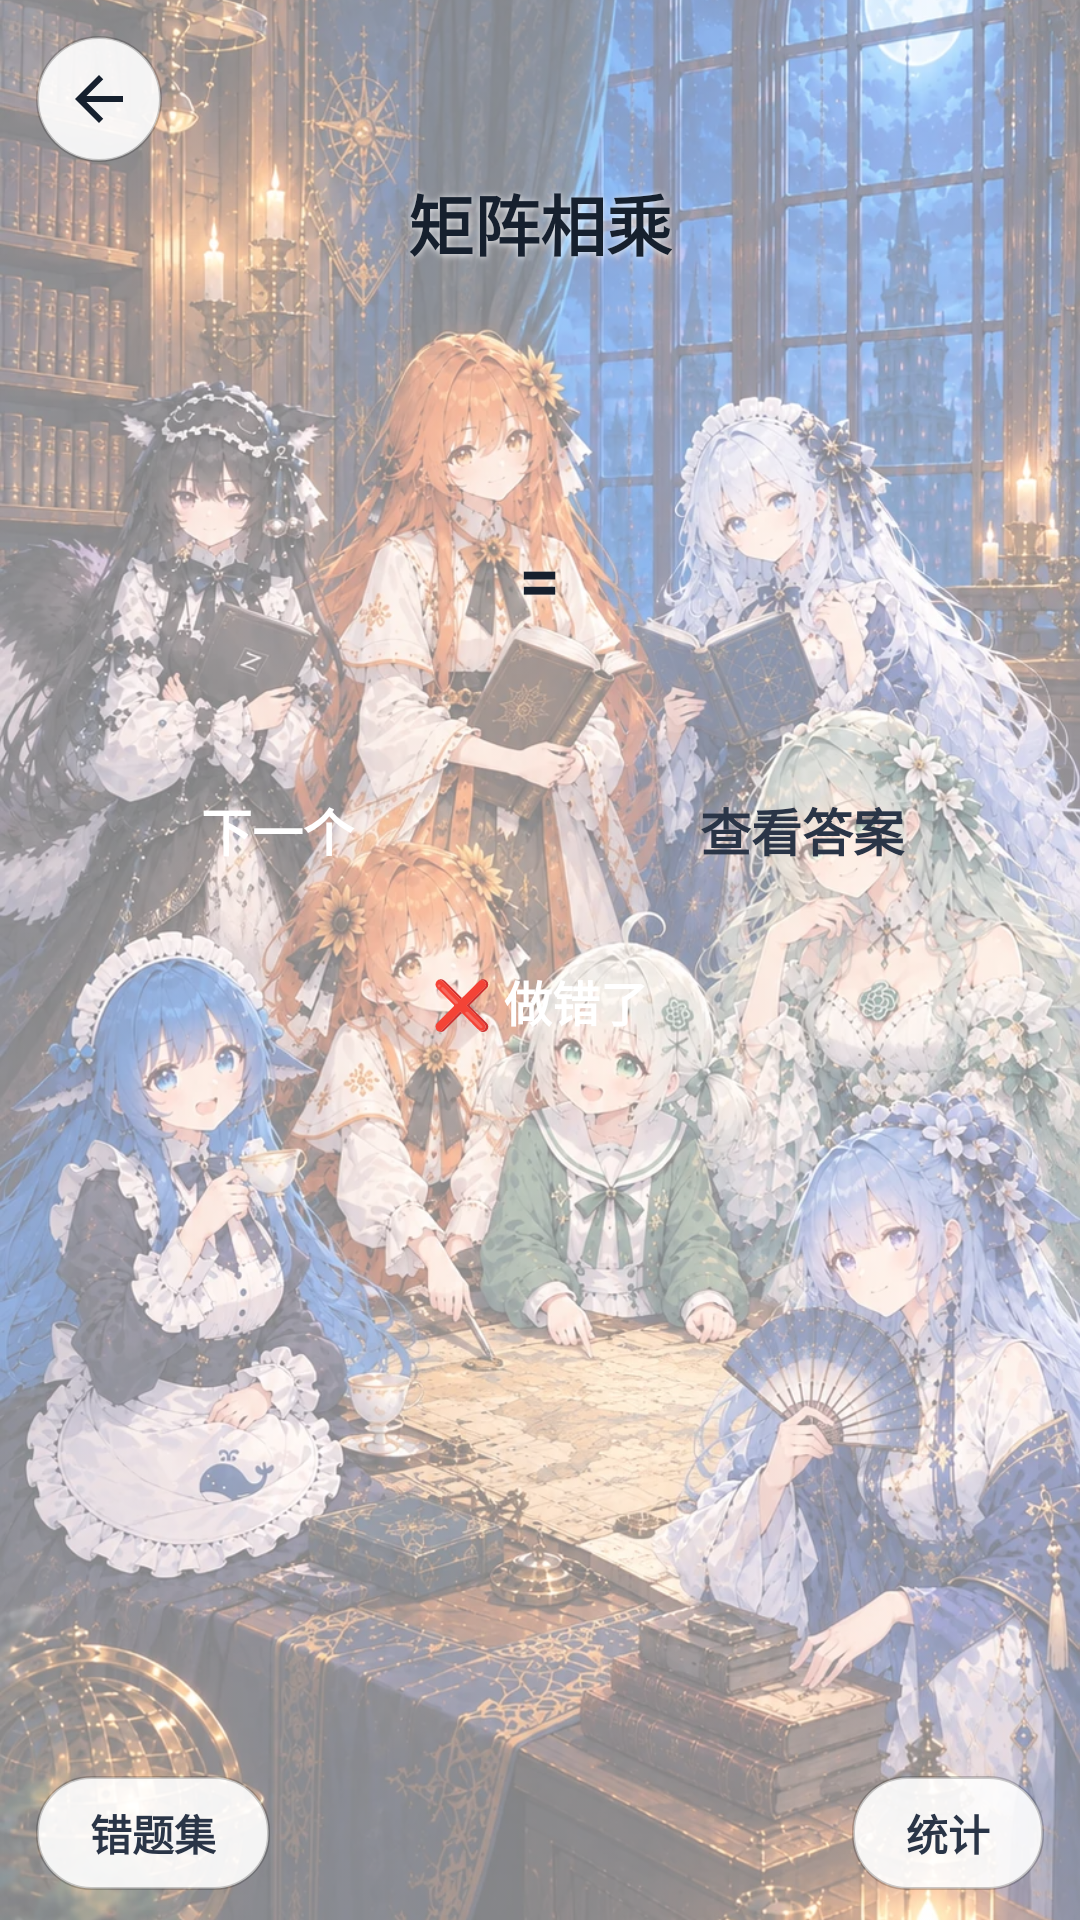

Screen size 1080 × 1920. Icon name, then its center in pixels as point (x, y):
返回: point (99, 99)
